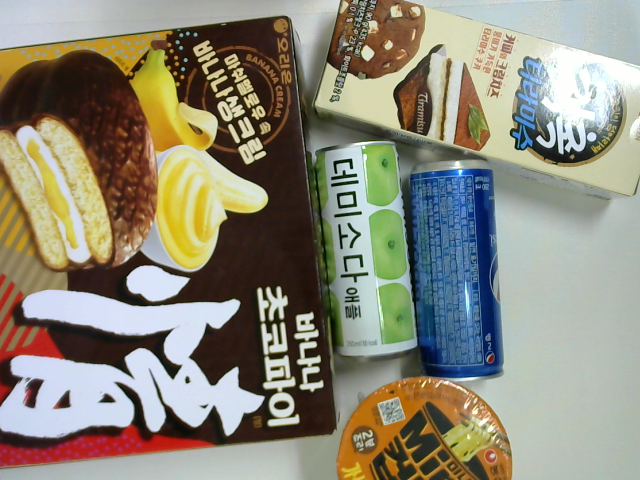Chicchok_Tiramisu: (311, 1, 640, 201)
Choco_Pie_Banana: (1, 13, 341, 471)
Demisoda_Apple_Can_250ml: (313, 137, 420, 362)
Pepsi_Cola_Can_250ml: (407, 157, 506, 383)
Udongmini: (337, 375, 516, 480)
